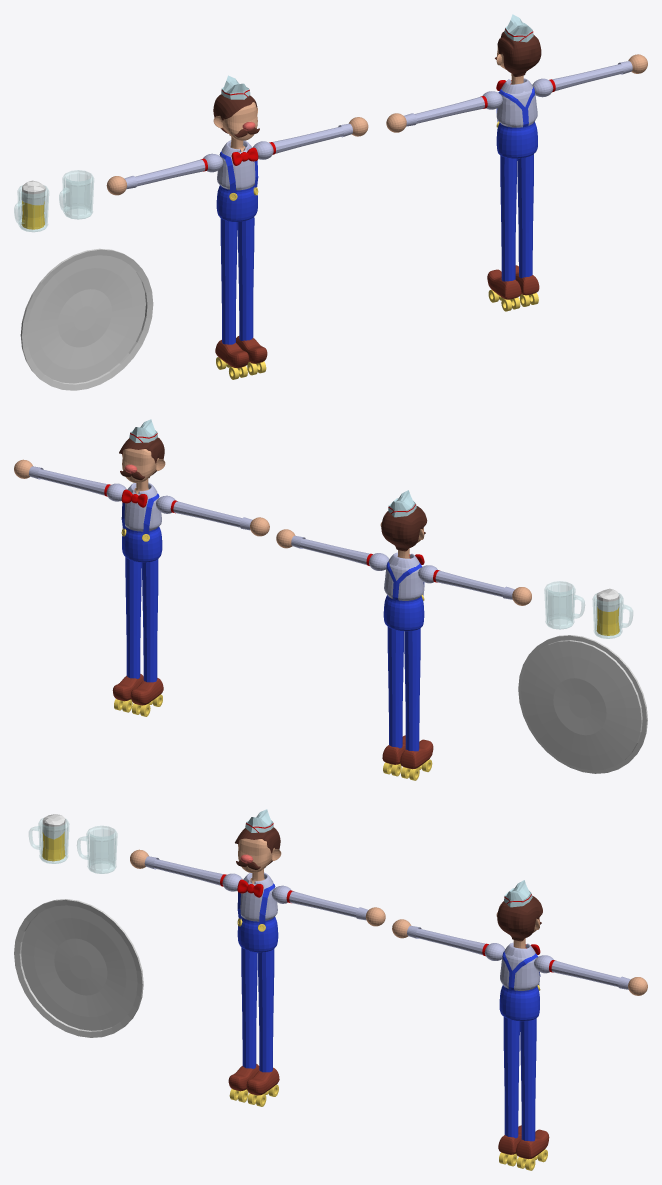
File: CERVECERO 1.fbx
3 views of the same model, one above another, from view 1: azimuth 30°, elevation 25°; view 2: azimuth 150°, elevation 25°; view 3: azimuth 330°, elevation 25° (orthographic). The views are drawn at different scales.
Parts seen in each view (by area): view 1: Circle.005, NurbsPath.004, NurbsPath.002, Cube.003, Cube.006, NurbsPath.003, NurbsPath.005, Tarro.008, Tarro.011, Cube.008, Cube.004, Cube.007 (+8 smaller); view 2: Circle.005, NurbsPath.004, NurbsPath.002, Cube.006, Cube.003, NurbsPath.005, NurbsPath.003, Tarro.008, Tarro.011, Cube.005, Cube.007, Cube.004 (+7 smaller); view 3: Circle.005, NurbsPath.004, NurbsPath.002, Cube.003, Cube.006, NurbsPath.003, NurbsPath.005, Tarro.008, Tarro.011, Cube.008, Cube.004, Cube.007 (+7 smaller).
Part boxes in pixels (bbox=[...]): Circle.005: bbox=[20, 248, 153, 390]; NurbsPath.004: bbox=[500, 154, 533, 281]; NurbsPath.002: bbox=[220, 217, 254, 344]; Cube.003: bbox=[216, 102, 257, 221]; Cube.006: bbox=[496, 46, 537, 158]; NurbsPath.003: bbox=[125, 126, 343, 188]; NurbsPath.005: bbox=[405, 64, 623, 125]; Tarro.008: bbox=[14, 180, 48, 232]; Tarro.011: bbox=[59, 170, 93, 219]; Cube.008: bbox=[497, 31, 541, 76]; Cube.004: bbox=[215, 336, 267, 368]; Cube.007: bbox=[487, 265, 539, 299]; Circle.005: bbox=[518, 635, 647, 773]; NurbsPath.004: bbox=[125, 557, 158, 682]; NurbsPath.002: bbox=[387, 627, 420, 751]; Cube.006: bbox=[122, 448, 162, 562]; Cube.003: bbox=[383, 528, 424, 631]; NurbsPath.005: bbox=[37, 469, 251, 529]; NurbsPath.003: bbox=[300, 538, 513, 598]; Tarro.008: bbox=[592, 588, 632, 638]; Tarro.011: bbox=[544, 581, 584, 629]; Cube.005: bbox=[381, 506, 427, 551]; Cube.007: bbox=[112, 674, 163, 705]; Cube.004: bbox=[382, 735, 433, 769]; Circle.005: bbox=[14, 899, 143, 1037]; NurbsPath.004: bbox=[503, 1017, 536, 1141]; NurbsPath.002: bbox=[241, 947, 274, 1072]; Cube.003: bbox=[237, 838, 278, 952]; Cube.006: bbox=[499, 918, 539, 1021]; NurbsPath.003: bbox=[153, 859, 367, 919]; NurbsPath.005: bbox=[416, 928, 629, 988]; Tarro.008: bbox=[29, 814, 69, 863]; Tarro.011: bbox=[77, 826, 117, 873]; Cube.008: bbox=[497, 896, 542, 941]; Cube.004: bbox=[228, 1064, 279, 1095]; Cube.007: bbox=[498, 1125, 549, 1159].
Size of the model in its own units: 3477 by 1506 by 287.
